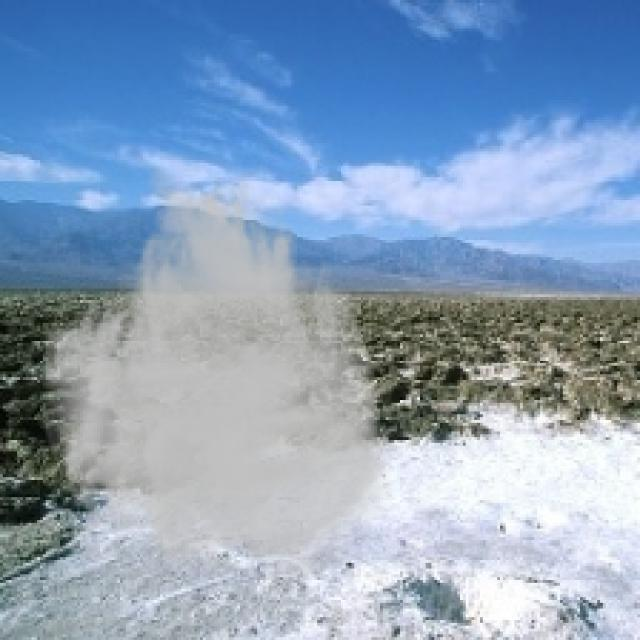Smoke: (37, 162, 394, 588)
